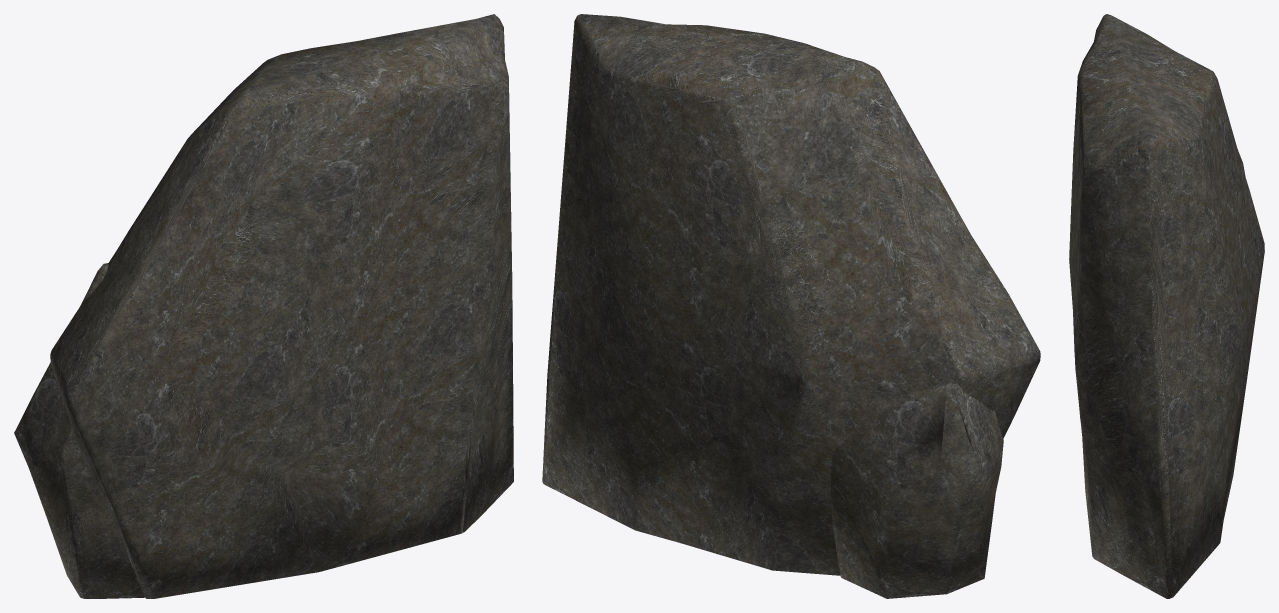
Rendered from cliff_slab_LOD1.fbx.
The picture shows the model from 3 angles, left to right: view 1: azimuth 30°, elevation 25°; view 2: azimuth 150°, elevation 25°; view 3: azimuth 270°, elevation 25°; orthographic projection. The views are drawn at different scales.
Parts seen in each view (by area): view 1: cliff_slab_LOD1; view 2: cliff_slab_LOD1; view 3: cliff_slab_LOD1.
Part boxes in pixels (x1,y1,x2,y2): cliff_slab_LOD1: (14,14,513,598); cliff_slab_LOD1: (542,14,1040,598); cliff_slab_LOD1: (1069,14,1264,598).
Bounding box in the file's own units: 500 × 479 × 190.
